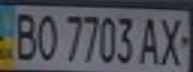0: (97, 12, 118, 64)
3: (115, 12, 139, 65)
7: (60, 10, 84, 63), (78, 11, 100, 63)
A: (136, 14, 163, 66)
B: (6, 8, 42, 62)
O: (33, 10, 60, 62)
X: (157, 12, 187, 68)
